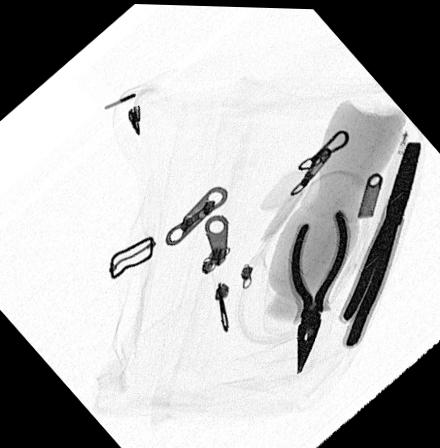Pliers: (341, 133, 427, 347), (288, 205, 349, 375)
